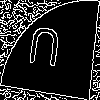U: (25, 25, 63, 77)
